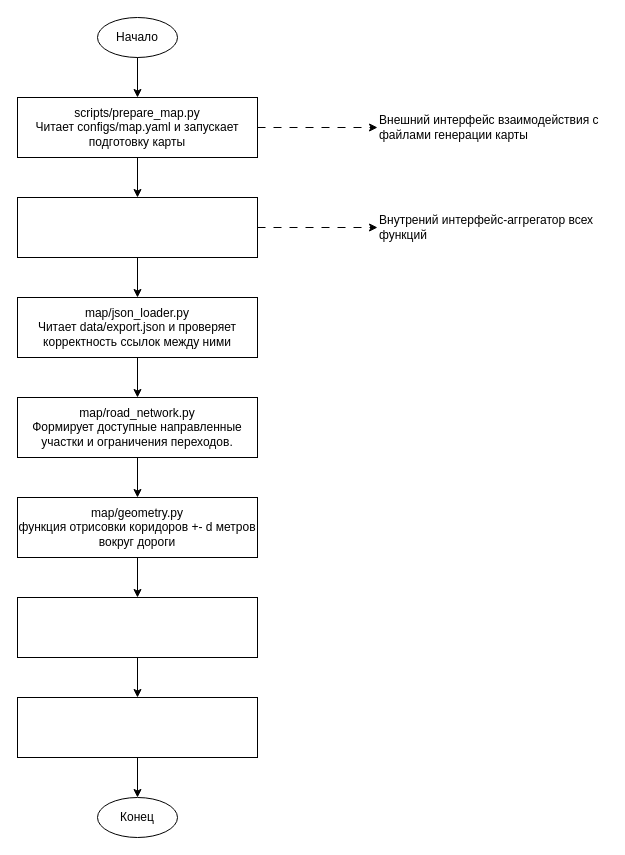
Some shapes in this 625 by 855 pixel diagram are drawn without their labels. Each missing label, with the centre of its shape:
map/preprocessing.py Добавляет разметку из data/traffic.yaml: the point at 137,627
map/preprocessing.py Организует последовательность обработки: the point at 137,227
map/preprocessing.py сохраняет готовую карту в data: the point at 137,727
